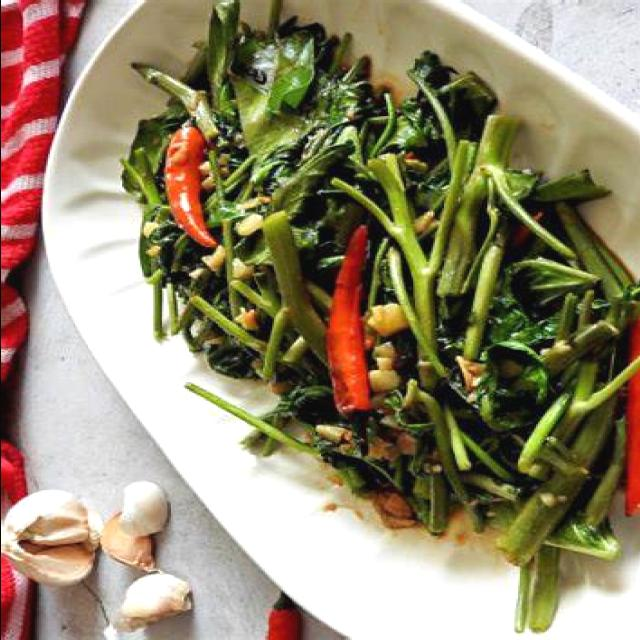tumis kangkung: (121, 0, 640, 632)
